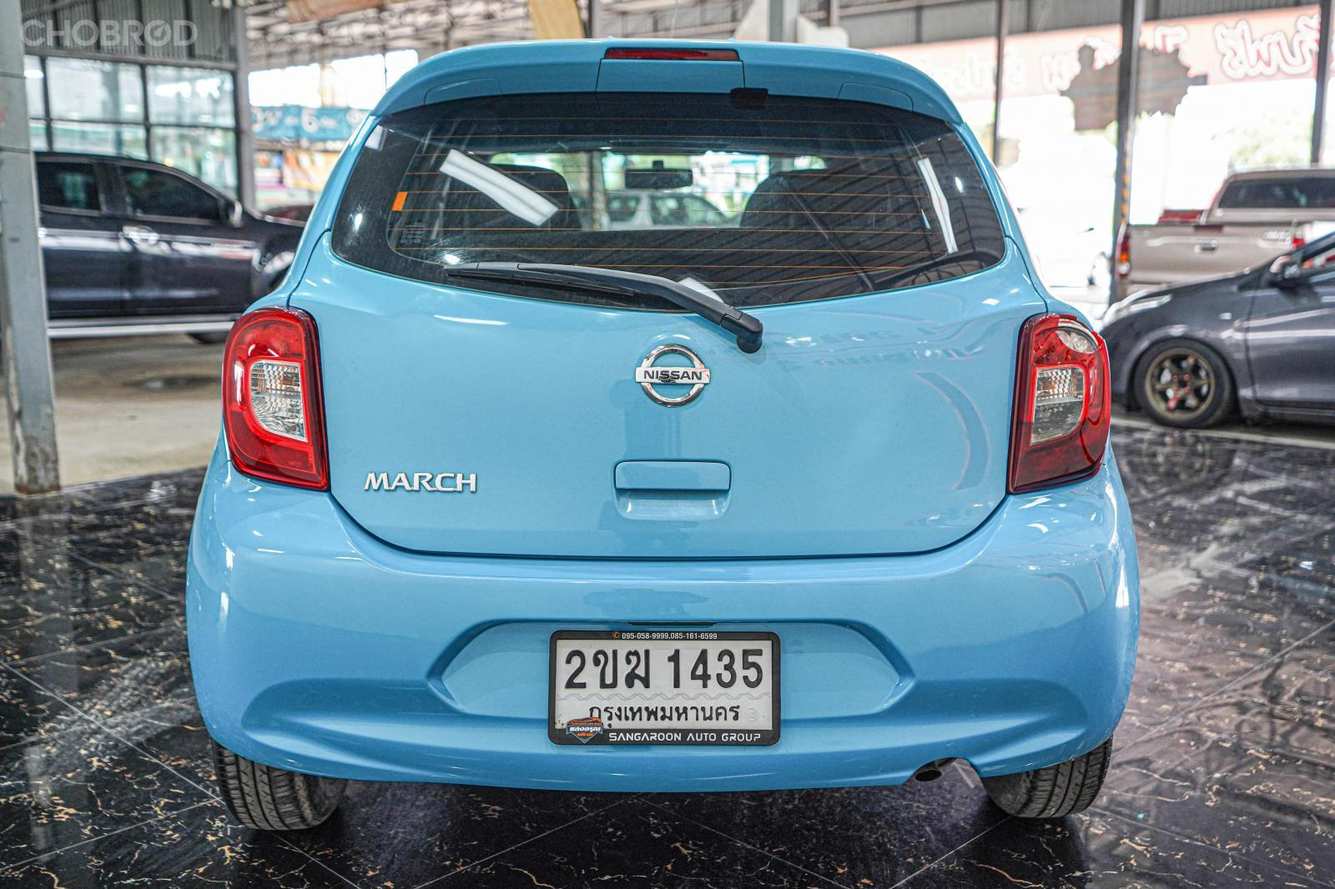license-plate: (543, 623, 790, 765)
